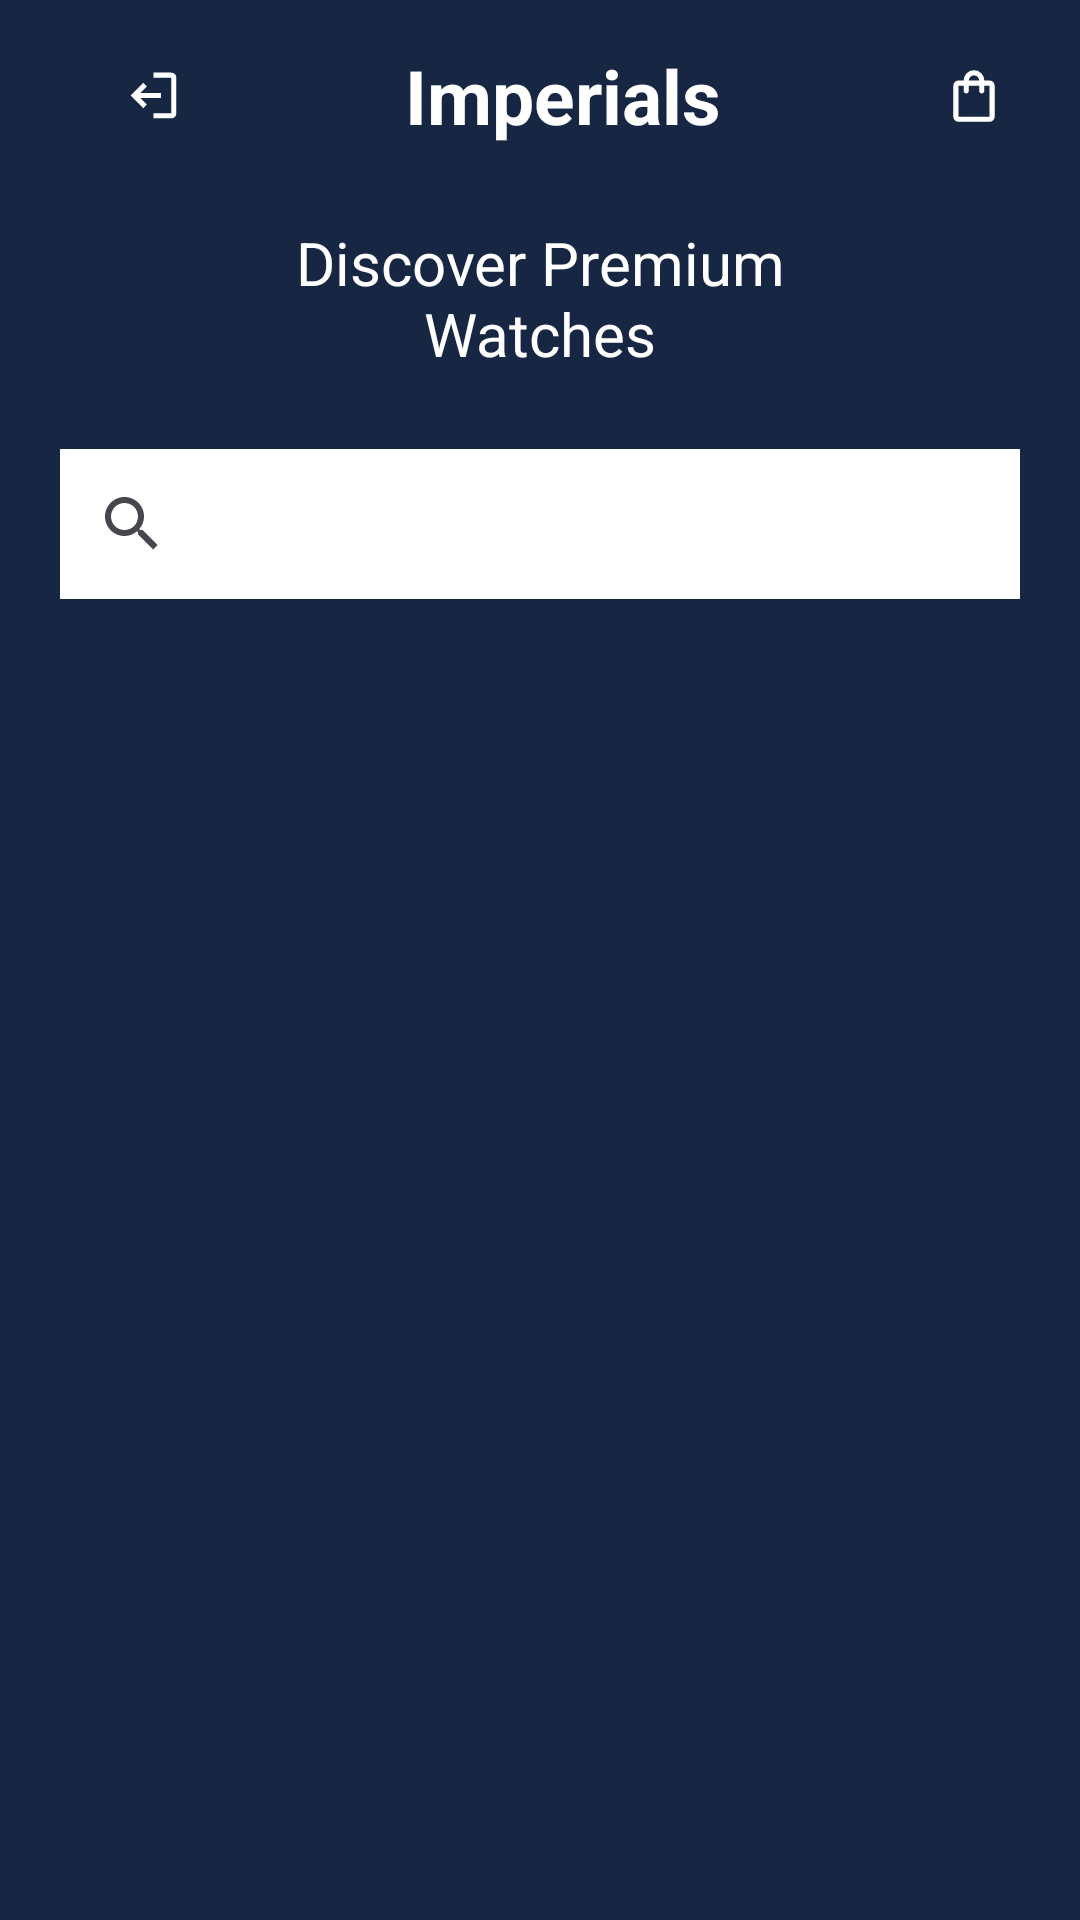

Named icons in this screenshot (1080 × 1920) and their bounding boxes, (x1, y1, x2, y2):
shopping bag: (953, 70, 995, 122)
